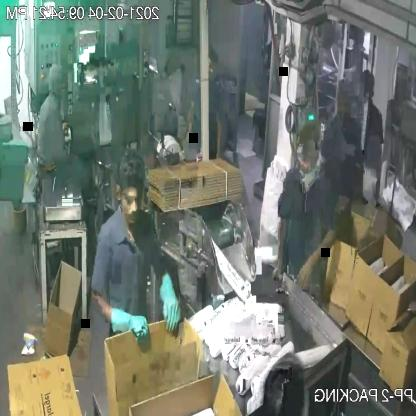glove: (105, 294, 151, 357), (152, 274, 184, 342)
no_glove: (296, 216, 340, 298), (270, 209, 296, 285), (208, 107, 226, 170)
